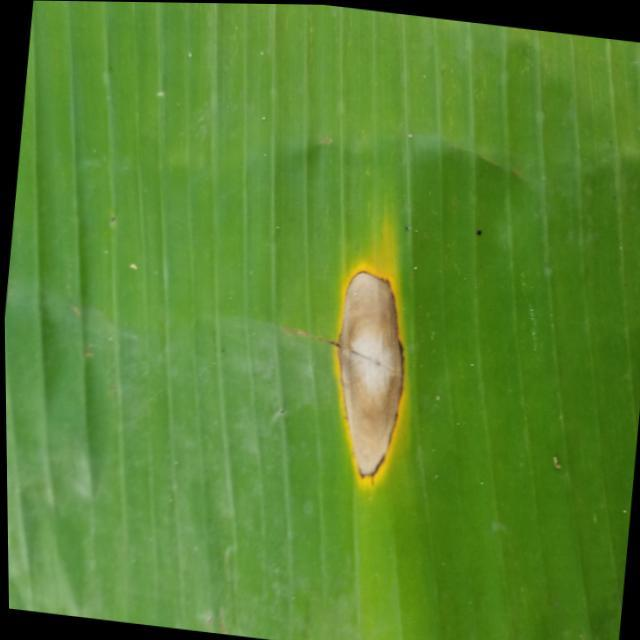Early_rust: (298, 231, 422, 526)
